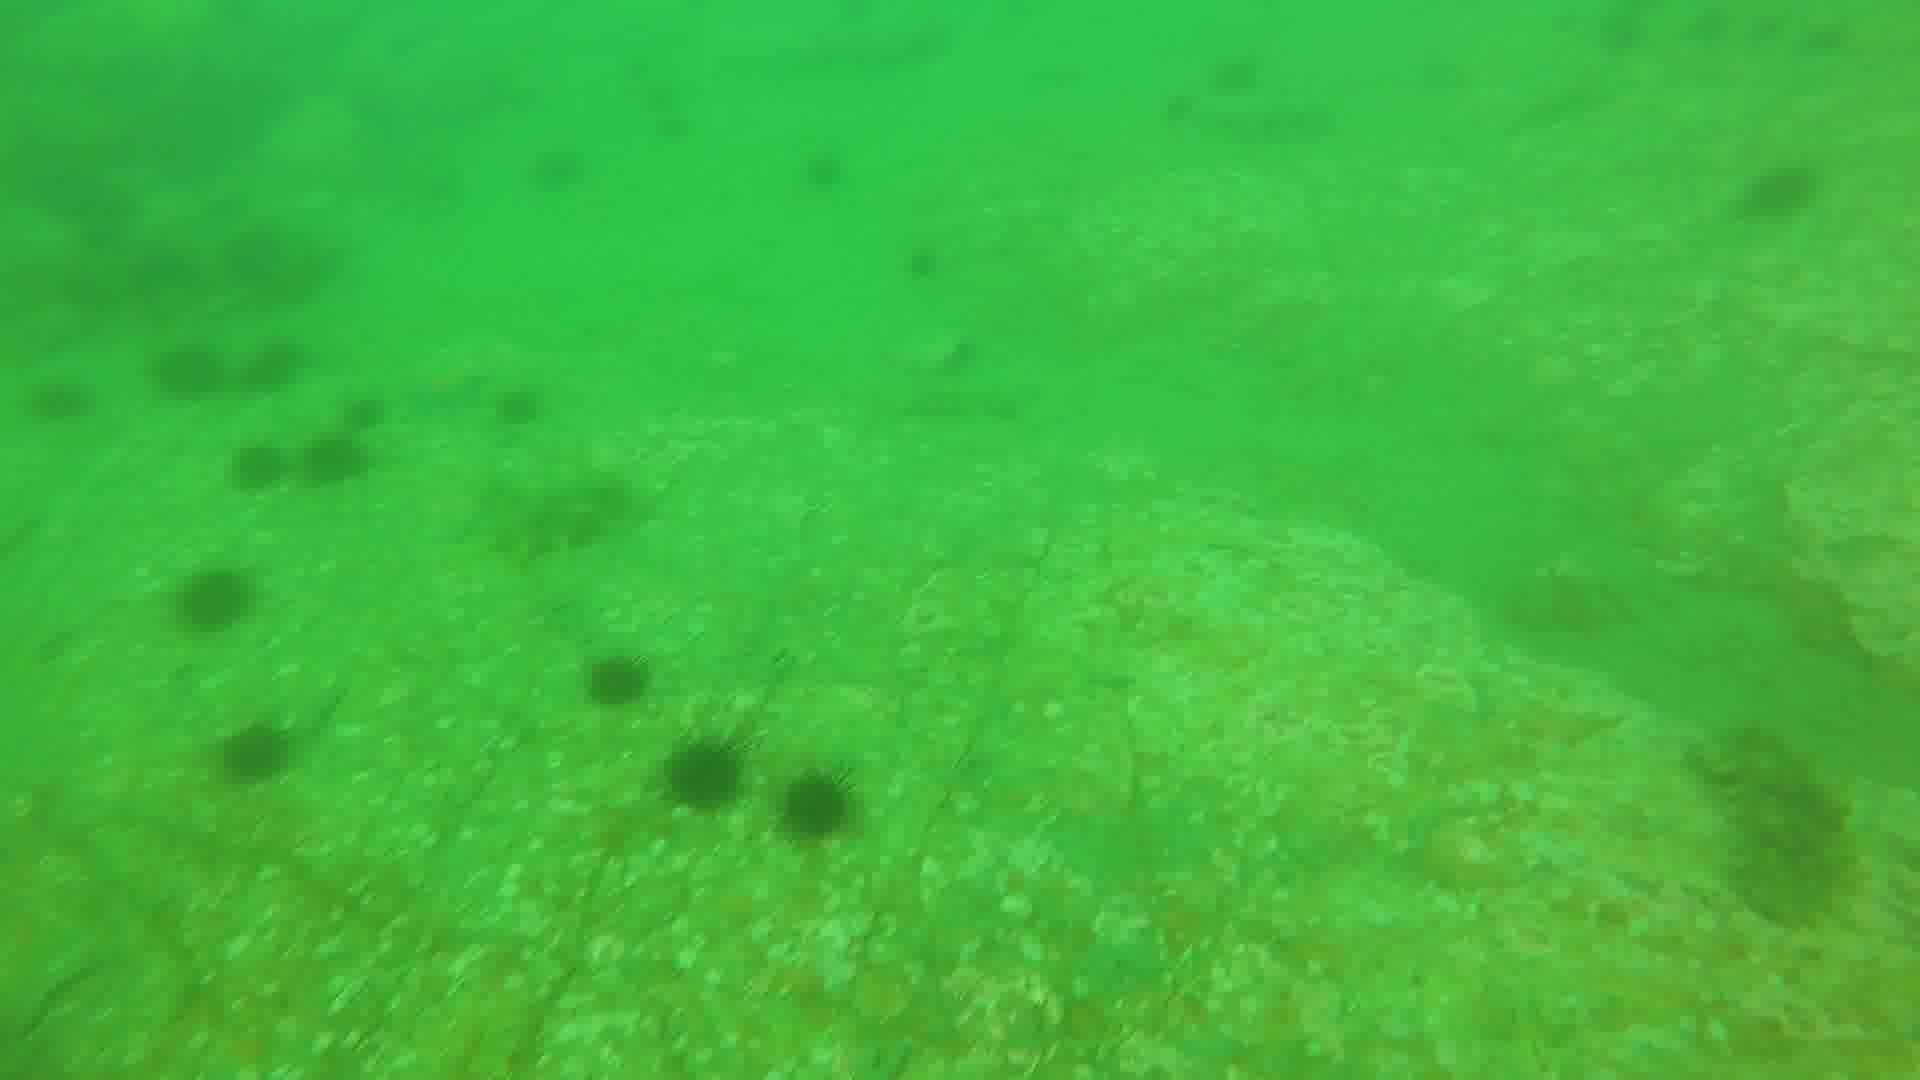echinus: (658, 736, 749, 816), (773, 767, 860, 847), (170, 563, 257, 638), (212, 717, 297, 791), (1735, 158, 1822, 225), (146, 339, 227, 406), (578, 647, 654, 713), (237, 334, 311, 400), (298, 431, 373, 492), (22, 372, 98, 429), (522, 138, 592, 198), (224, 436, 290, 498), (488, 381, 549, 433), (1205, 49, 1265, 99), (796, 145, 851, 196), (339, 392, 392, 436), (901, 240, 945, 285)
holothurian: (1697, 719, 1857, 931), (475, 462, 638, 564)
starfish: (401, 348, 489, 419)
